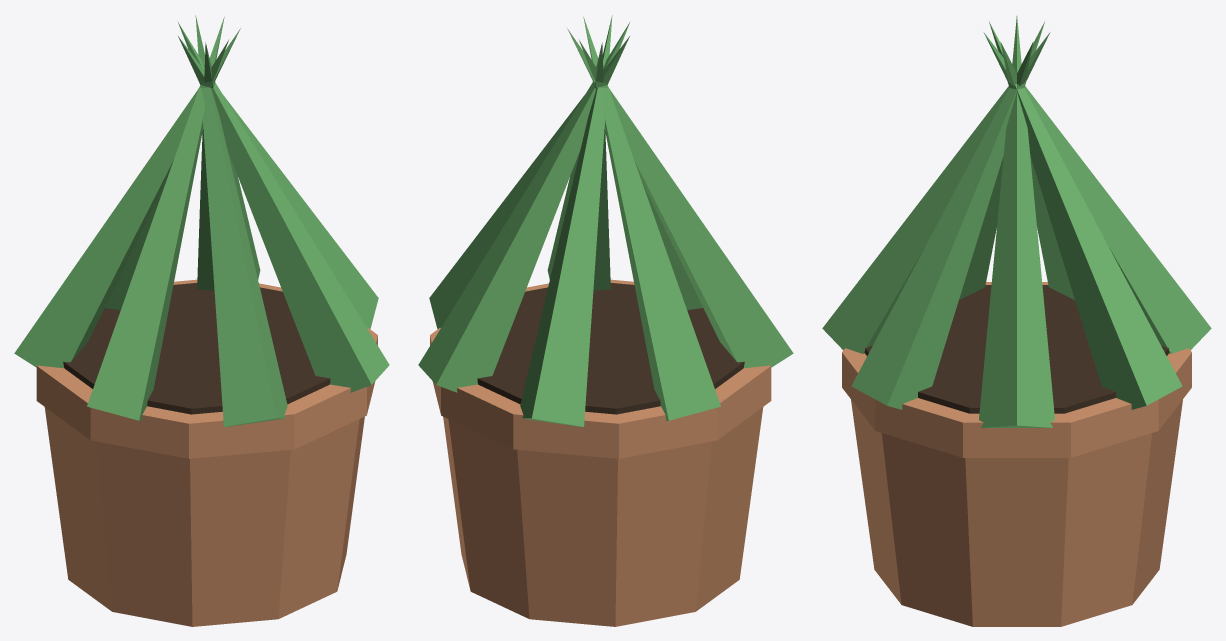
Rendered from aloe_pot.glb.
3 views of the same model, side by side, from view 1: azimuth 30°, elevation 25°; view 2: azimuth 150°, elevation 25°; view 3: azimuth 270°, elevation 25° (orthographic).
Parts seen in each view (by area): view 1: aloe_pot; view 2: aloe_pot; view 3: aloe_pot.
Part boxes in pixels (box(x1,y1,x2,y2)): aloe_pot: box(14, 15, 389, 626); aloe_pot: box(418, 15, 793, 626); aloe_pot: box(822, 16, 1211, 626).
Bounding box in the file's own units: 0.2931 × 0.4608 × 0.3004.
